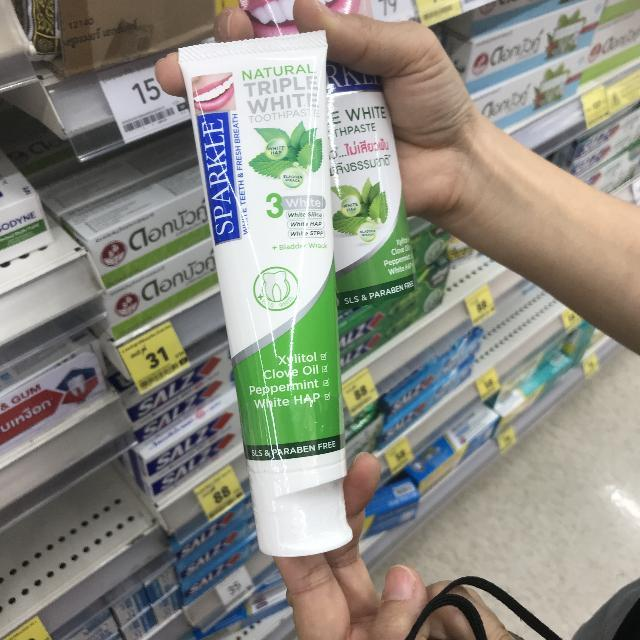Squeeze Tube: (155, 25, 399, 561)
